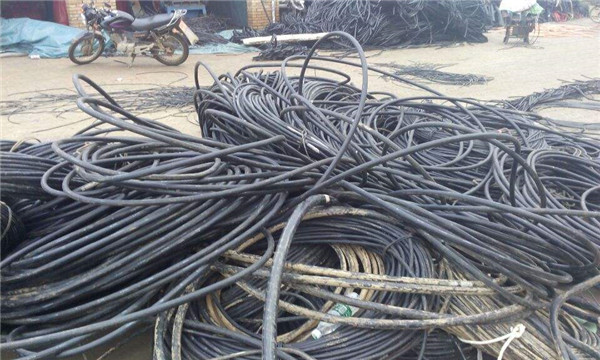more_tube: (261, 185, 523, 341), (45, 55, 228, 212), (302, 37, 482, 174), (149, 195, 287, 316), (496, 104, 596, 204)
